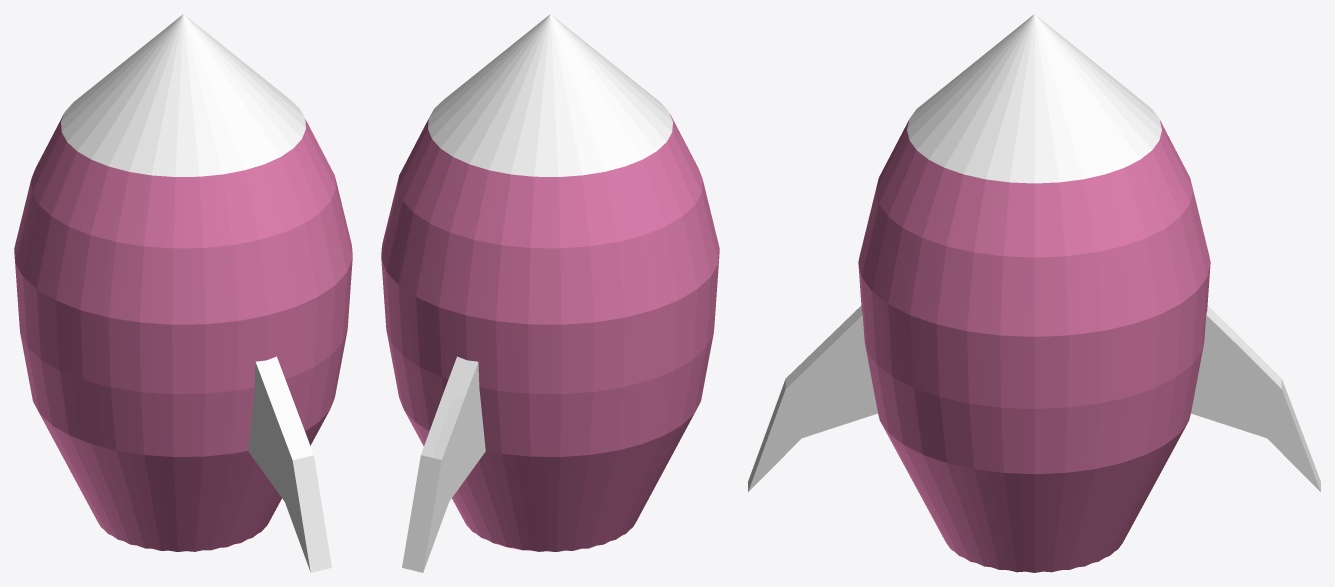
File: Player_Model.fbx
3 renders of one model, left to right at view 1: azimuth 30°, elevation 25°; view 2: azimuth 150°, elevation 25°; view 3: azimuth 270°, elevation 25°, orthographic. The views are drawn at different scales.
Visible parts, largest first — view 1: Player; view 2: Player; view 3: Player.
Boxes of the visible parts, left/top/right/bottom form: Player: left=14, top=14, right=352, bottom=572; Player: left=381, top=14, right=719, bottom=572; Player: left=748, top=14, right=1320, bottom=572.
Bounding box in the file's own units: 276 × 450 × 449.
